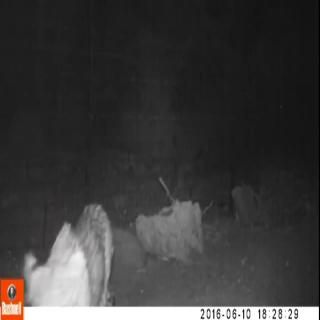Leopard: (27, 190, 125, 308)
